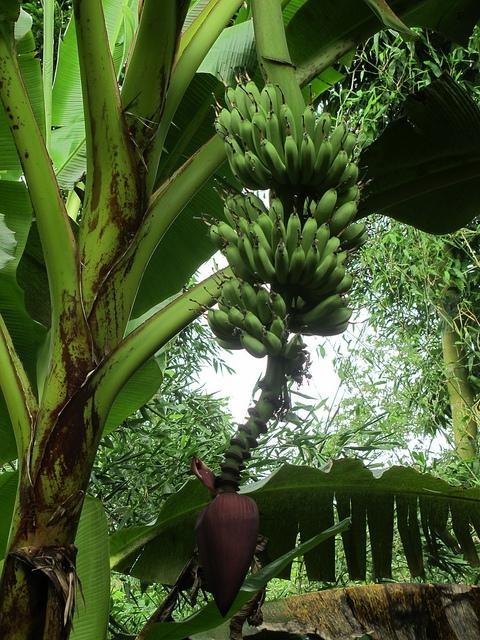banana: (300, 266, 371, 304), (234, 101, 270, 171), (223, 136, 268, 190), (240, 204, 276, 270), (313, 125, 347, 193), (306, 240, 347, 292), (212, 92, 245, 156), (328, 192, 372, 240), (310, 251, 356, 296), (236, 134, 272, 190), (314, 177, 350, 230), (233, 218, 263, 281), (328, 104, 355, 172), (249, 231, 279, 285), (317, 222, 352, 268), (294, 293, 342, 326), (225, 322, 268, 358), (298, 83, 316, 168), (228, 302, 264, 344), (249, 92, 268, 169), (246, 195, 273, 248), (332, 178, 374, 212), (226, 242, 258, 286), (260, 142, 292, 186), (193, 216, 225, 256), (230, 66, 252, 124), (223, 176, 250, 222), (308, 136, 332, 187), (316, 207, 339, 260), (212, 296, 246, 331), (205, 304, 240, 338), (298, 232, 320, 286), (284, 114, 300, 186), (266, 110, 286, 167), (189, 308, 229, 336), (216, 128, 244, 166), (260, 62, 278, 118), (288, 228, 306, 284), (313, 111, 332, 164), (286, 204, 301, 270), (308, 308, 353, 330), (343, 114, 364, 160), (238, 281, 261, 322), (223, 204, 249, 239), (336, 240, 368, 268), (300, 132, 316, 187), (274, 228, 289, 286), (244, 62, 260, 116), (270, 207, 286, 260), (228, 99, 244, 150), (218, 72, 237, 114), (300, 216, 318, 260), (212, 218, 239, 247), (303, 320, 349, 337), (340, 222, 366, 250), (336, 162, 358, 195), (214, 178, 235, 212), (269, 178, 284, 225), (266, 302, 284, 340), (257, 287, 272, 332), (200, 335, 244, 350), (261, 326, 282, 357), (210, 274, 229, 306), (282, 333, 303, 359), (208, 322, 240, 338), (230, 278, 246, 309), (271, 294, 286, 320), (223, 280, 237, 306), (224, 206, 237, 232), (212, 116, 224, 142), (256, 196, 268, 216), (354, 188, 360, 206)
